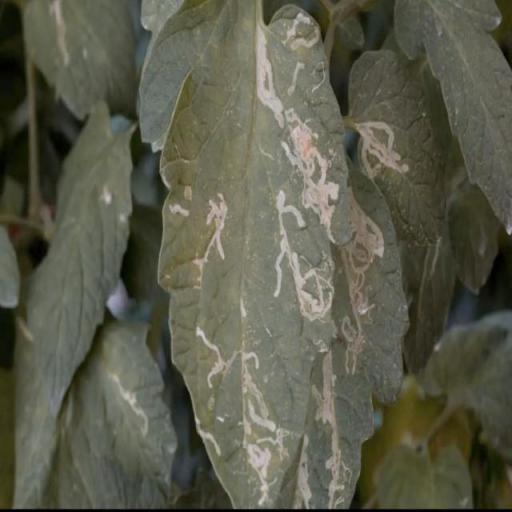Leaf Miner: (158, 0, 342, 510), (262, 168, 412, 510), (350, 48, 446, 245)
